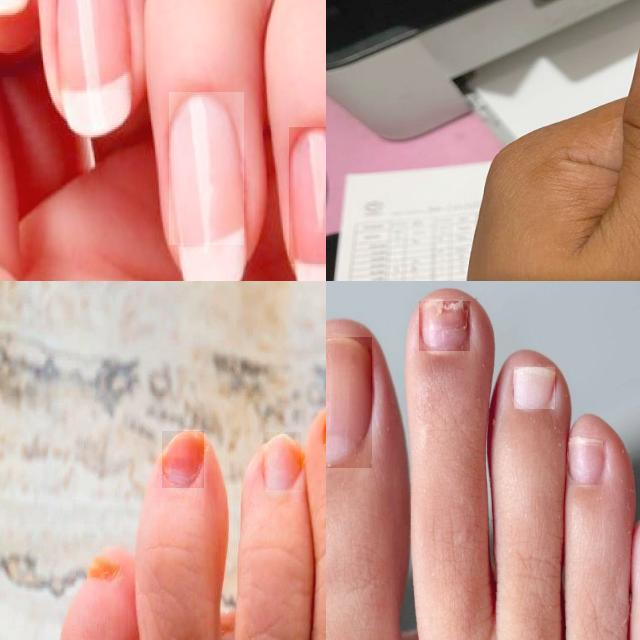diabetes: (420, 302, 470, 351), (163, 431, 204, 488), (263, 433, 301, 490), (86, 551, 122, 580)
sehat: (169, 92, 244, 245), (57, 0, 131, 90), (326, 337, 372, 468), (289, 128, 326, 264), (514, 367, 555, 409), (568, 442, 604, 485)
